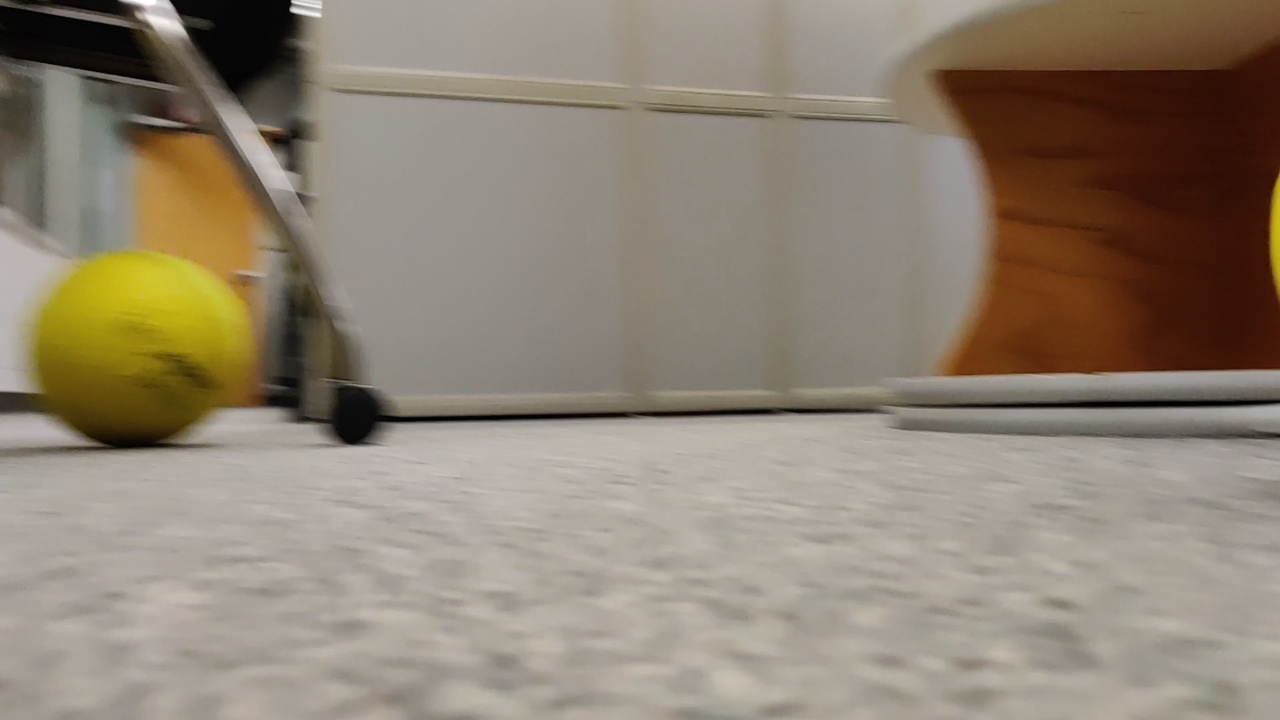Ball: (41, 250, 255, 450)
